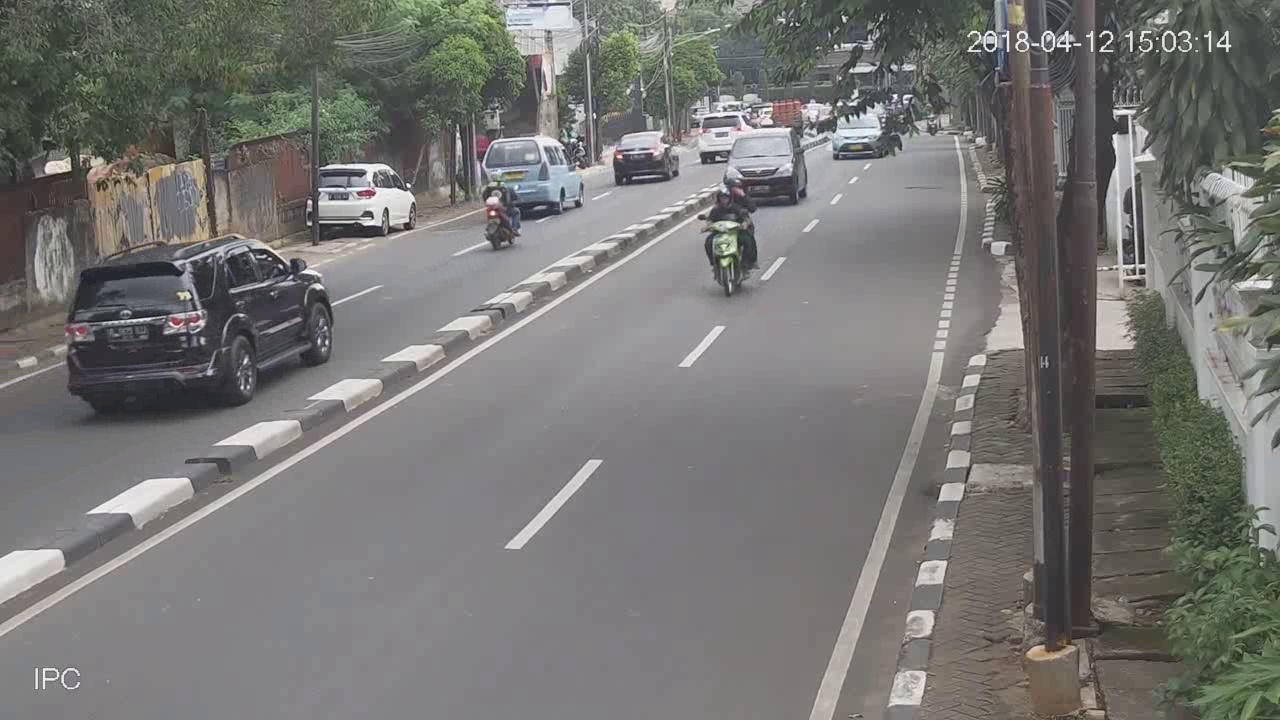car: (63, 234, 333, 415), (302, 163, 419, 241), (482, 134, 584, 218), (728, 128, 807, 209), (611, 129, 682, 188), (696, 111, 748, 164)
motorcycle: (701, 184, 761, 303), (481, 161, 526, 254)
